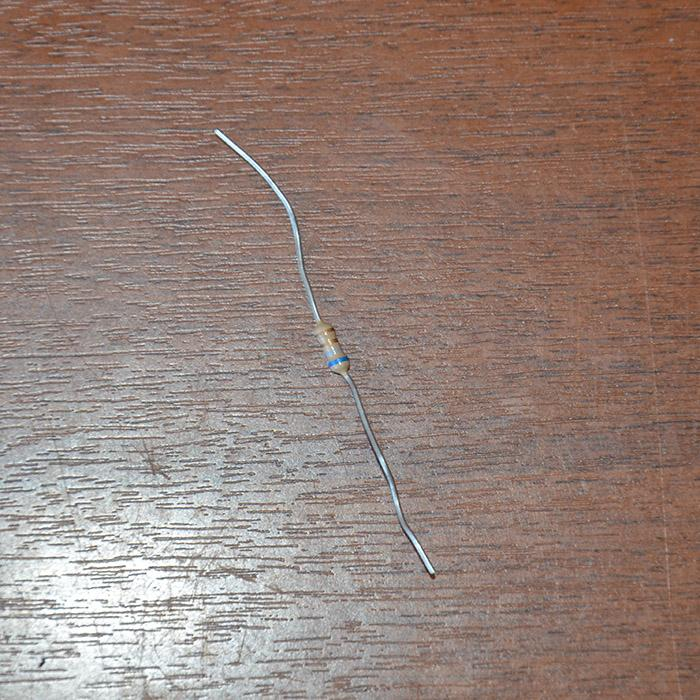resistor: (312, 319, 349, 375)
